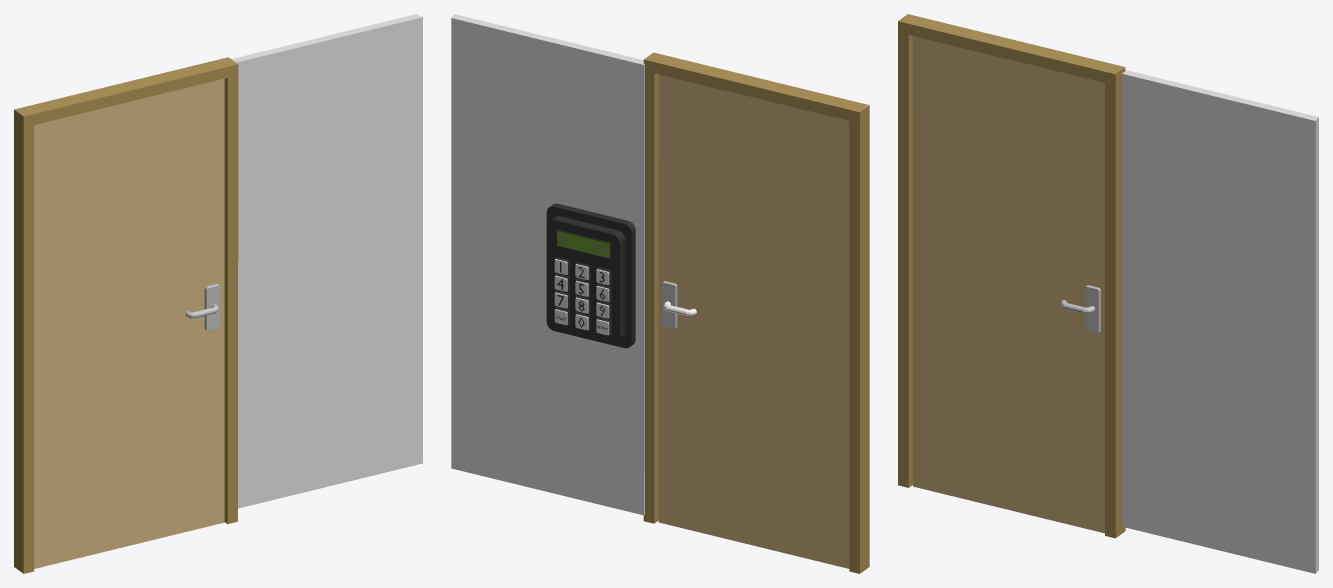
The model's file is Doorall Asset.fbx.
The picture shows the model from 3 angles, left to right: view 1: azimuth 30°, elevation 25°; view 2: azimuth 150°, elevation 25°; view 3: azimuth 330°, elevation 25°; orthographic projection.
Parts seen in each view (by area): view 1: Door, Wall_segment, Door_Frame, Handle_Plate; view 2: Door, Wall_segment, Door_Frame, Pad, Handle_Plate; view 3: Wall_segment, Door, Door_Frame, Handle_Plate.
Part boxes in pixels (box(x1,y1,x2,y2)): Door: box(34, 78, 224, 568); Wall_segment: box(231, 14, 422, 508); Door_Frame: box(14, 57, 238, 573); Handle_Plate: box(204, 283, 219, 331); Door: box(658, 74, 849, 568); Wall_segment: box(451, 14, 644, 515); Door_Frame: box(643, 52, 869, 573); Pad: box(546, 203, 635, 348); Handle_Plate: box(662, 281, 677, 328); Wall_segment: box(1122, 70, 1318, 573); Door: box(912, 36, 1104, 533); Door_Frame: box(898, 14, 1125, 538); Handle_Plate: box(1085, 285, 1100, 333).
Size of what is drawn, in the model's own units: 193 by 208 by 22.71.
